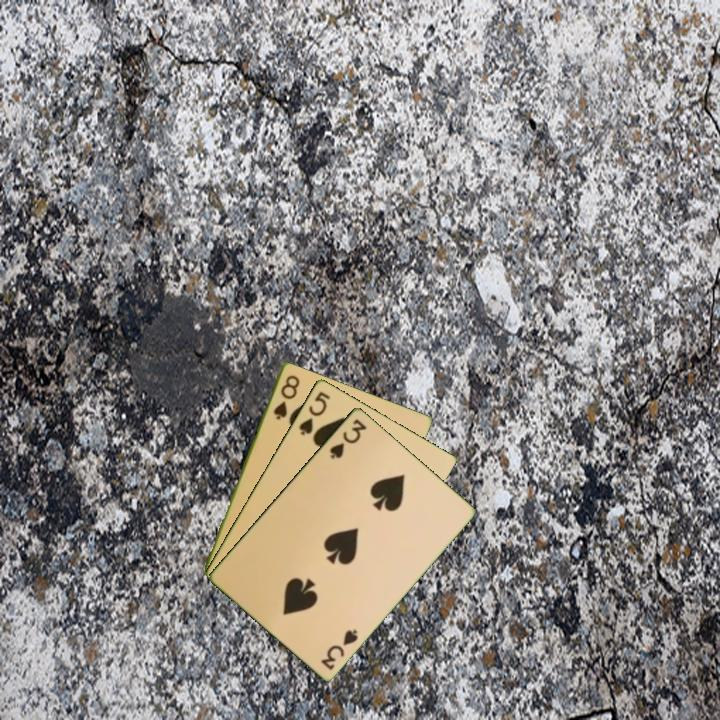3s: (317, 625, 361, 673), (326, 415, 370, 461)
5s: (295, 388, 333, 438)
8s: (270, 371, 302, 422)
